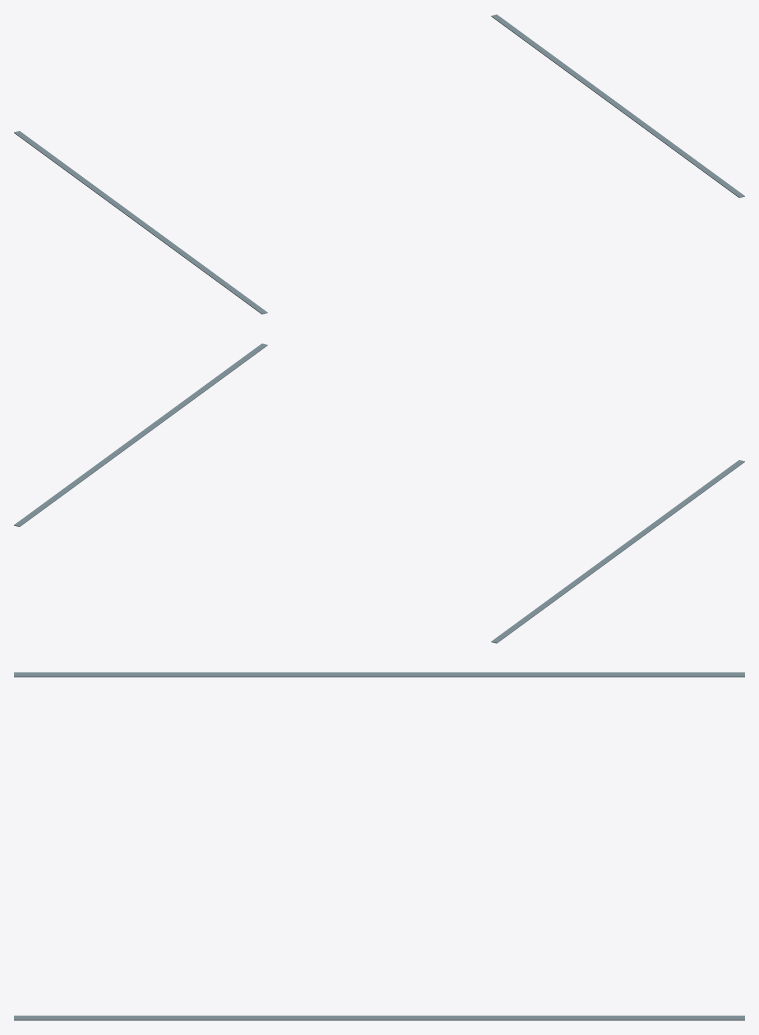
File: Transit_Walk_W2_Straight_4m_MarkPaverJoints.glb
3 renders of one model, top to bottom at view 1: azimuth 30°, elevation 25°; view 2: azimuth 150°, elevation 25°; view 3: azimuth 270°, elevation 25°, orthographic. The views are drawn at different scales.
Visible parts, largest first — view 1: Transit_Walk_W2_Straight_4m_MarkPaverJoints; view 2: Transit_Walk_W2_Straight_4m_MarkPaverJoints; view 3: Transit_Walk_W2_Straight_4m_MarkPaverJoints.
Part boxes in pixels (x1,y1,x2,y2): Transit_Walk_W2_Straight_4m_MarkPaverJoints: [14, 14, 744, 314]; Transit_Walk_W2_Straight_4m_MarkPaverJoints: [14, 343, 744, 643]; Transit_Walk_W2_Straight_4m_MarkPaverJoints: [14, 672, 744, 1020].
Bounding box in the file's own units: 2.02 × 0.003 × 1.8.
